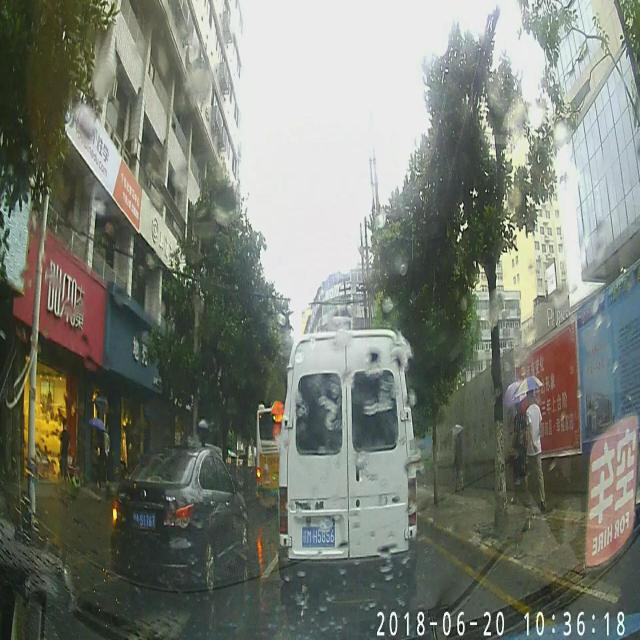car: (111, 449, 247, 590)
